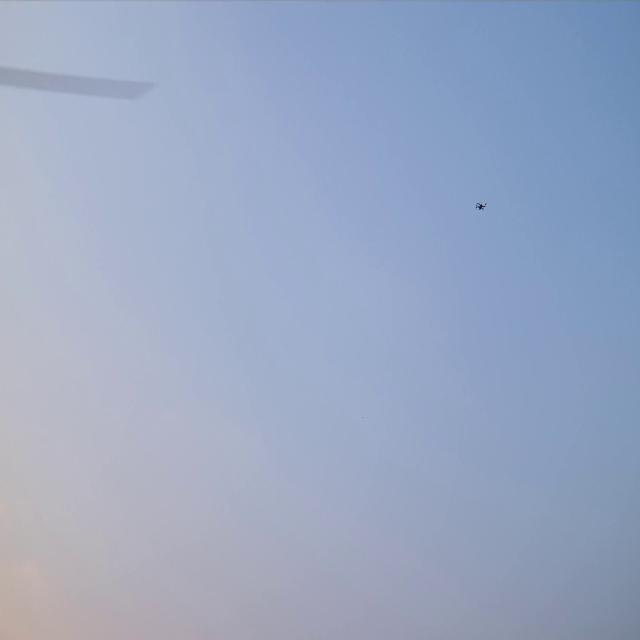UAV: (476, 203, 485, 209)
